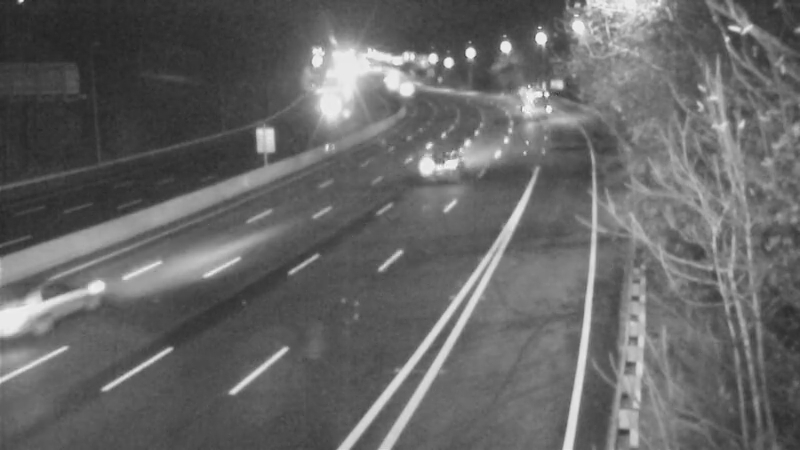vehicle: (1, 254, 101, 364), (409, 119, 489, 199), (378, 61, 428, 111), (496, 77, 546, 127), (298, 77, 348, 127)
